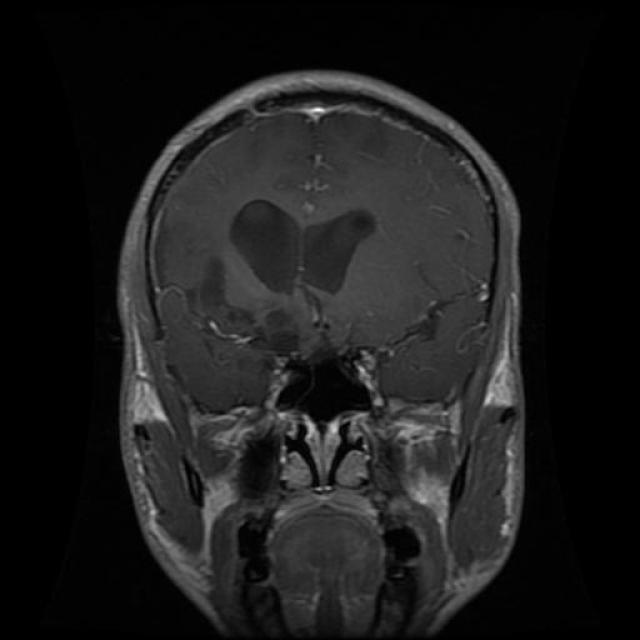glioma: (230, 200, 368, 300)
